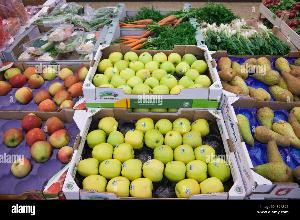apple: (81, 107, 226, 200), (1, 108, 80, 198), (97, 48, 223, 101), (1, 69, 96, 109)
carrot: (107, 8, 194, 50)
pear: (232, 109, 300, 198), (214, 52, 300, 104)
